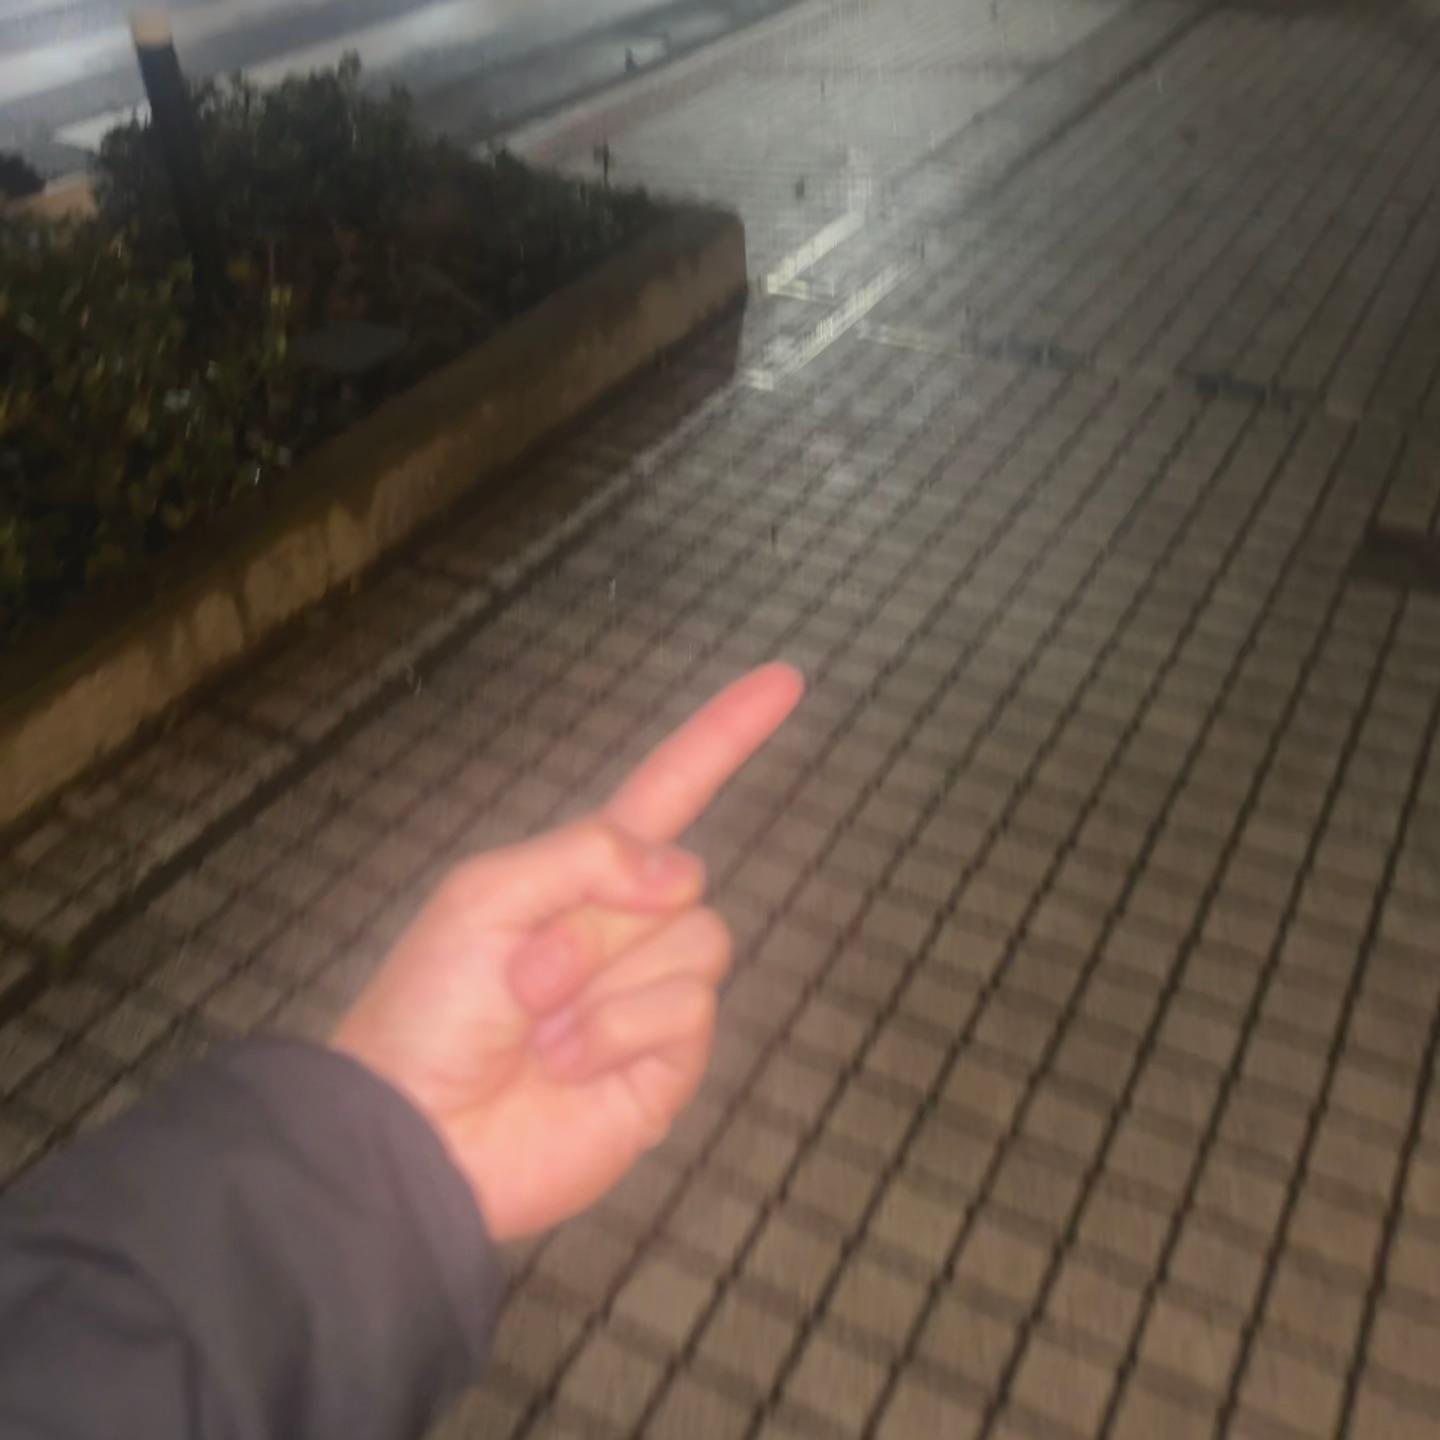without_gloves: (197, 611, 916, 1406)
